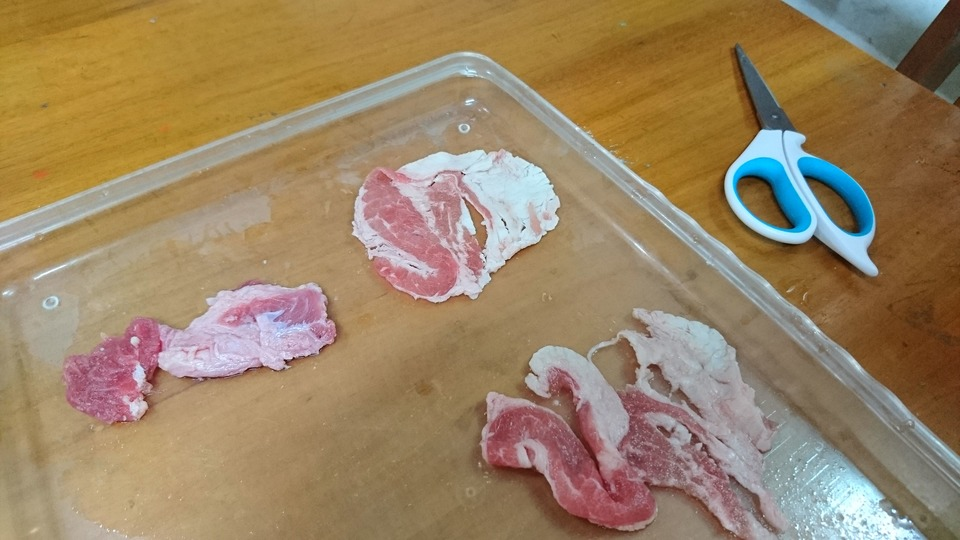restructured meat: (471, 294, 807, 540), (65, 278, 342, 426), (356, 145, 567, 297)
